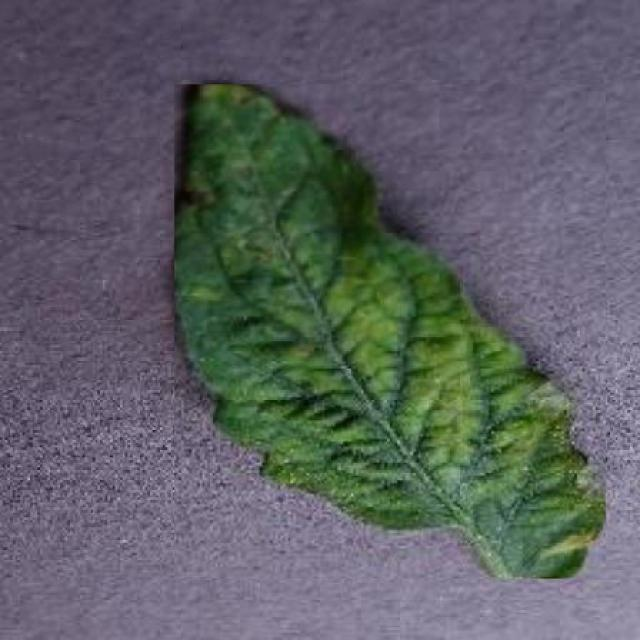Mosaic Virus: (175, 84, 606, 579)
